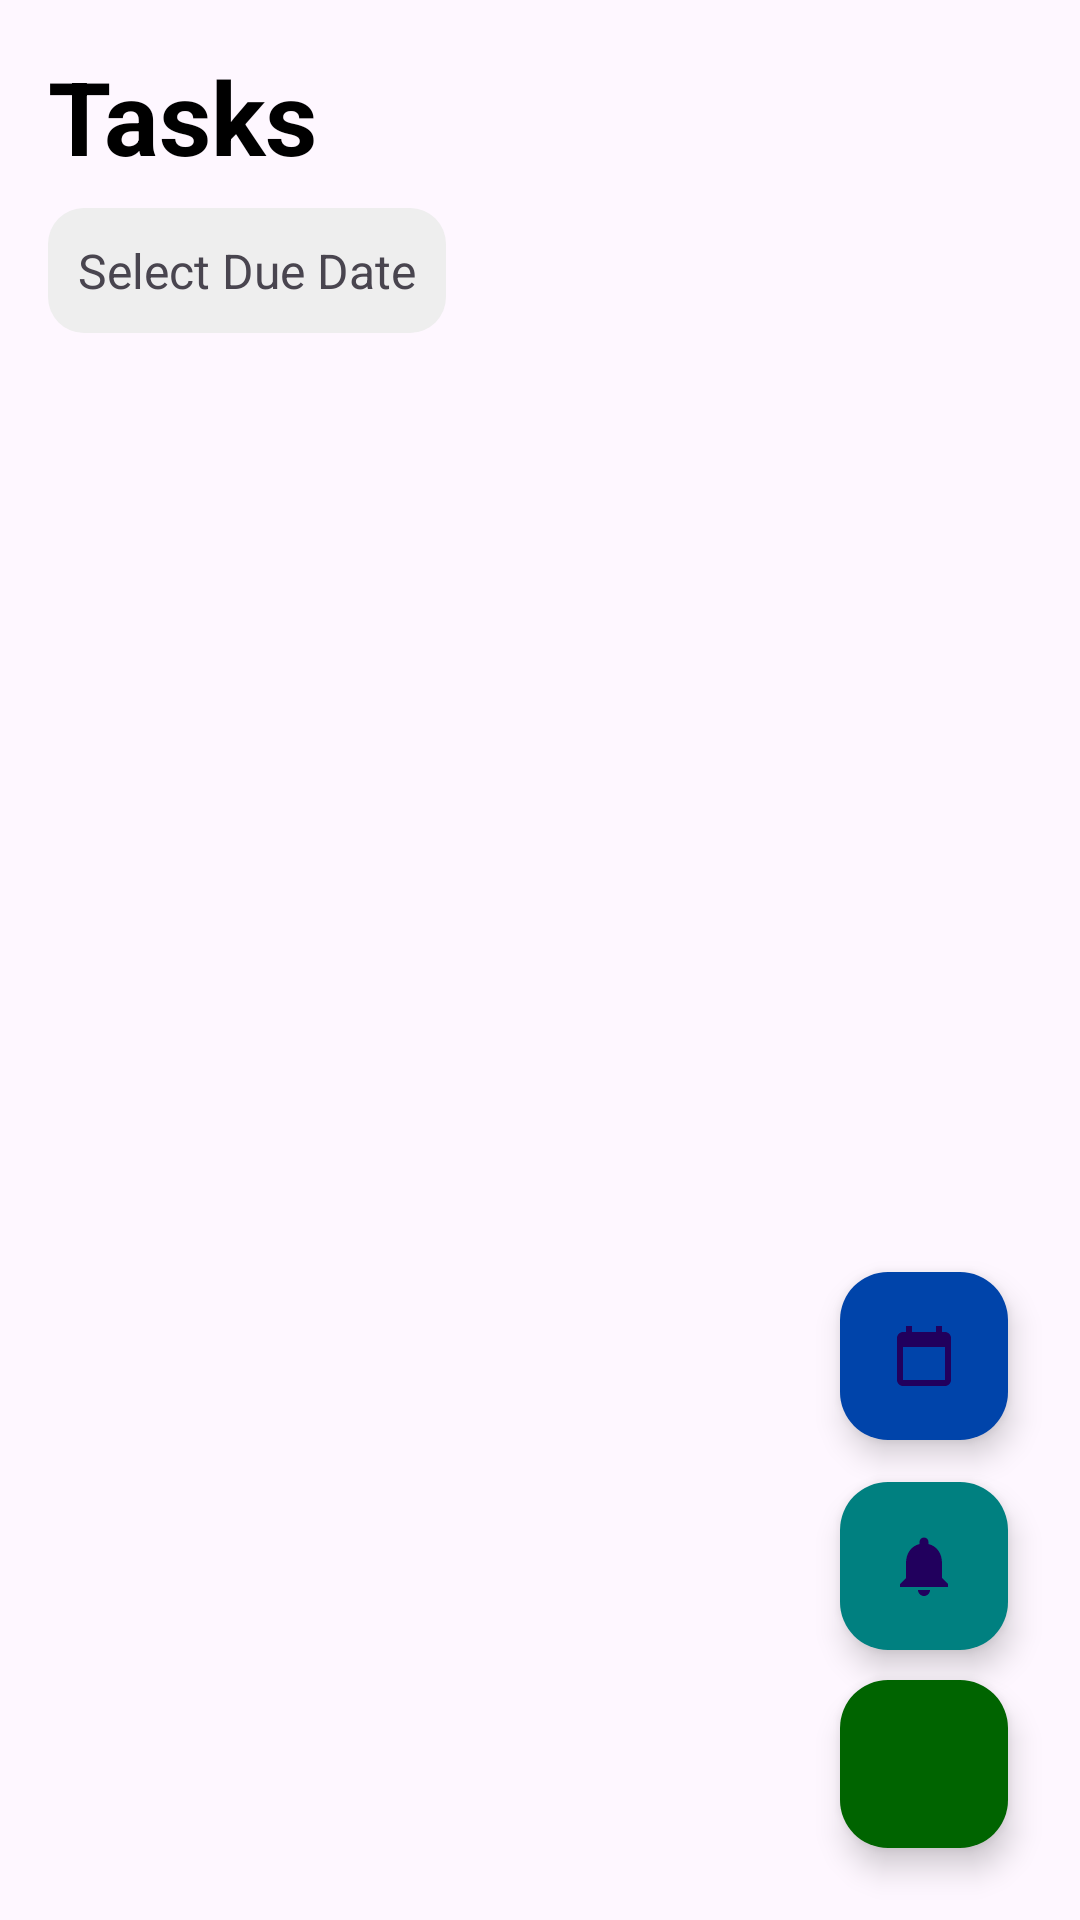

Icons on this 1080 x 1920 Android screen, each with the point to tap as (x=x, y=y):
calendar: (x=924, y=1356)
notifications: (x=924, y=1566)
